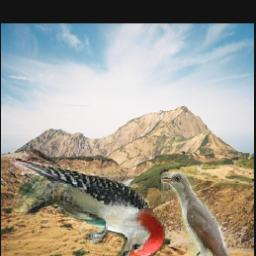Cuckoo: (162, 172, 236, 256)
Woodpecker: (11, 160, 166, 256)
